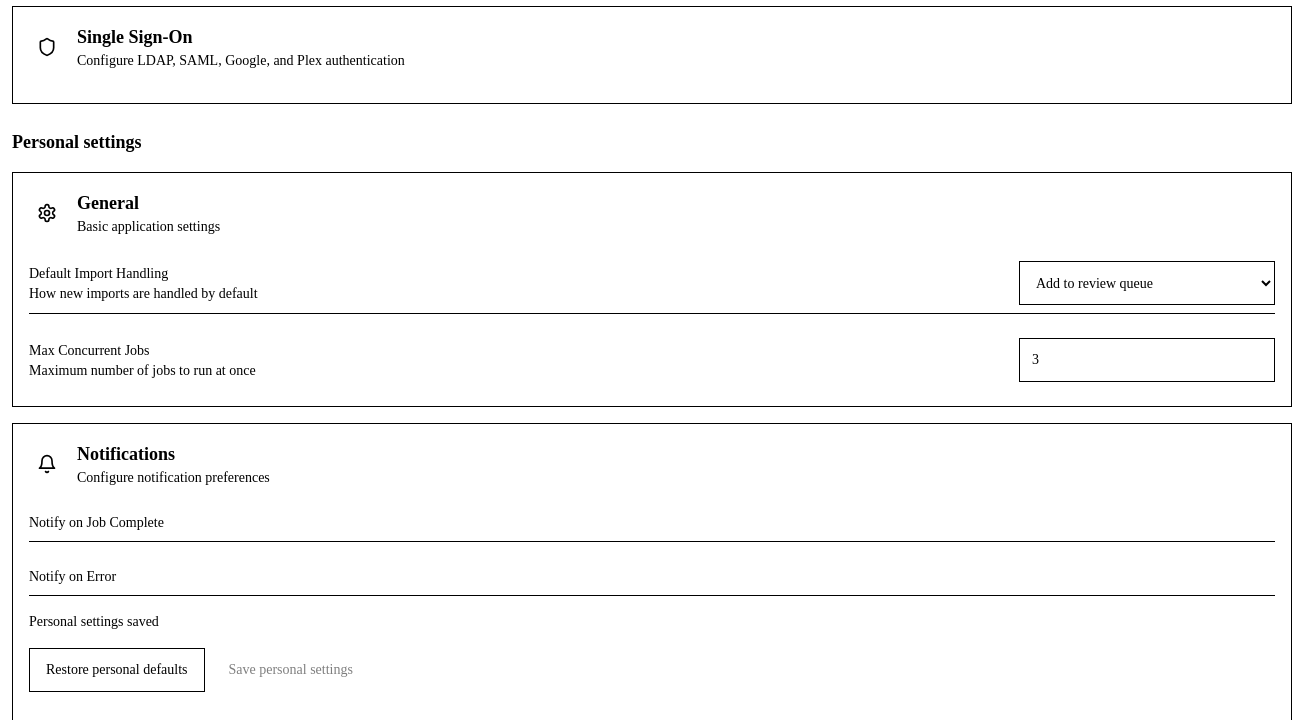
Test case: an invalid AI read leaves another section draft intact and protected
(page scrolled)
Replace the text in the number field labelled "Max Concurrent Jobs" with "7". click: (1147, 360)
box: [1019,338,1275,382]
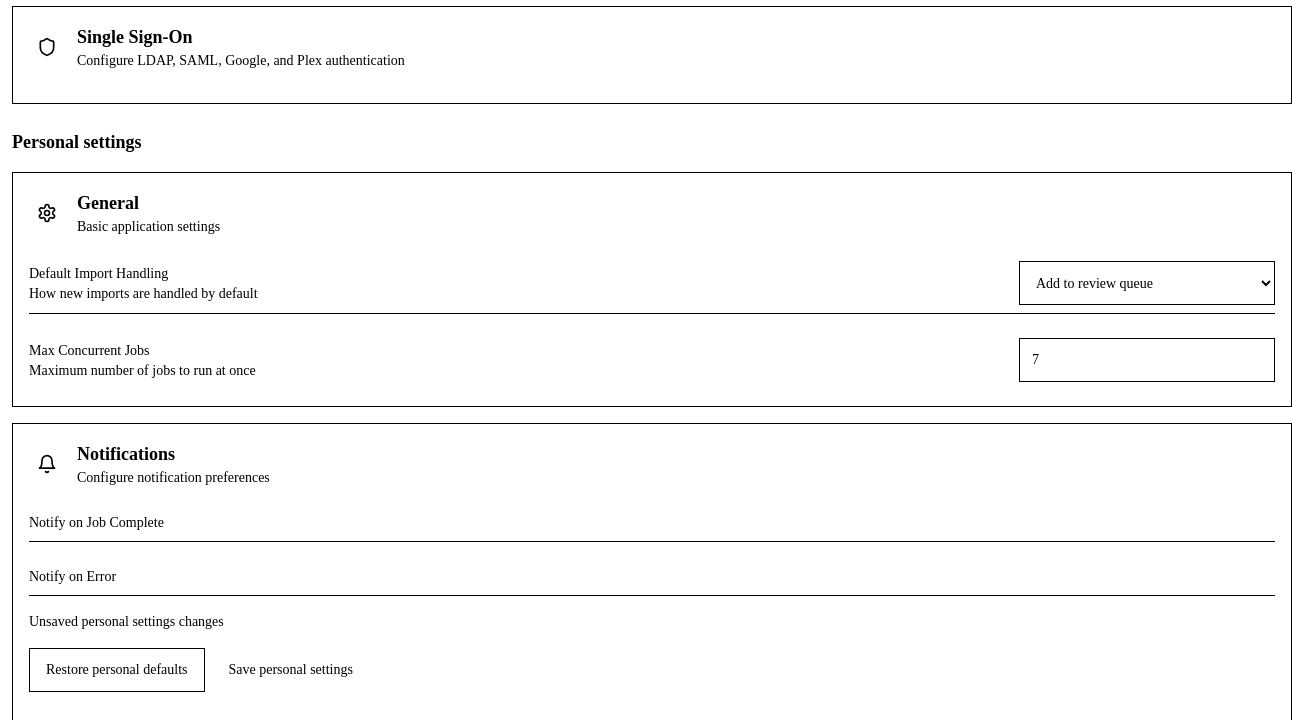
Result: the text "Unsaved personal settings changes" is shown at [29,614,224,629]
